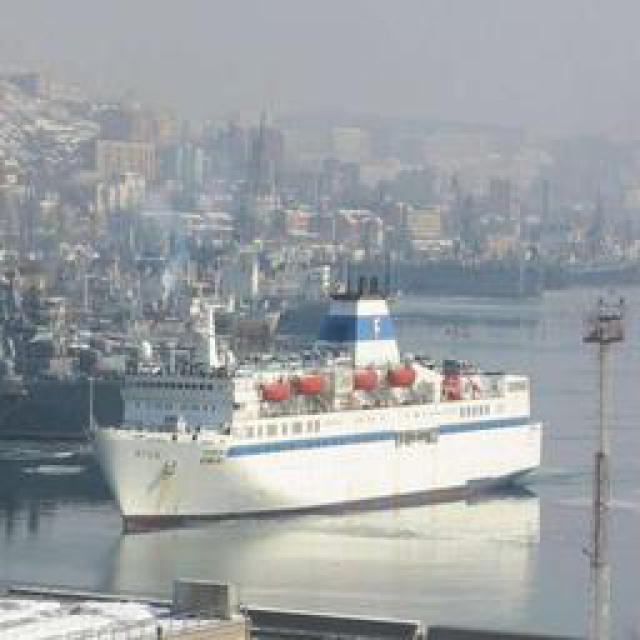Ship: (94, 338, 527, 526)
